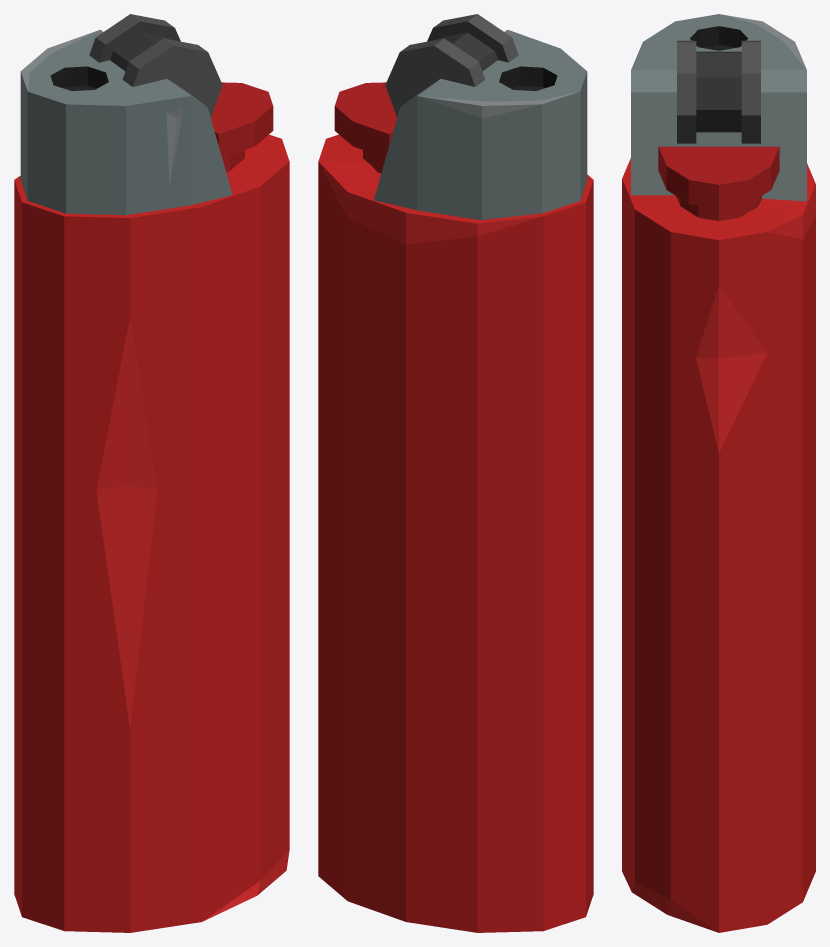
File: mesh_lighter_red.fbx
3 renders of one model, left to right at view 1: azimuth 30°, elevation 25°; view 2: azimuth 150°, elevation 25°; view 3: azimuth 270°, elevation 25°, orthographic. The views are drawn at different scales.
Visible parts, largest first — view 1: mesh_lighter_red; view 2: mesh_lighter_red; view 3: mesh_lighter_red.
Part boxes in pixels (left/top/right/bottom): mesh_lighter_red: left=14, top=14, right=289, bottom=932; mesh_lighter_red: left=318, top=14, right=593, bottom=932; mesh_lighter_red: left=622, top=14, right=815, bottom=932.
Bounding box in the file's own units: 0.0554 × 0.1741 × 0.0369.
